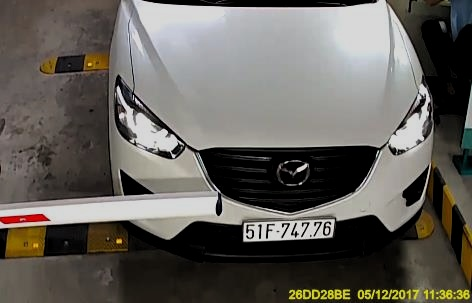plate: (239, 218, 334, 242)
